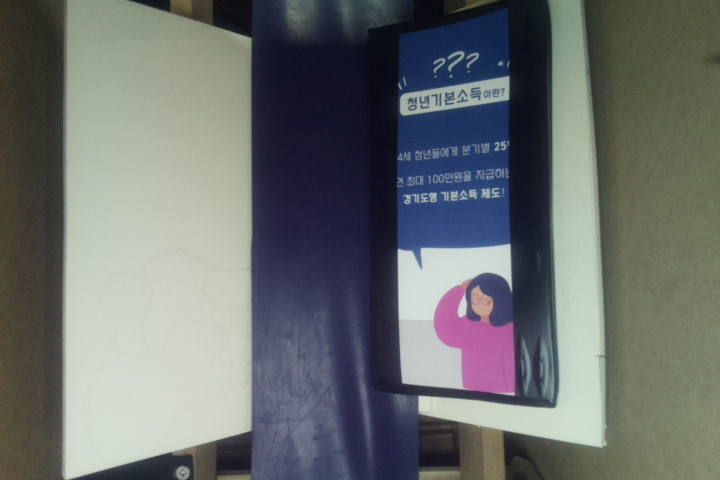book: (373, 1, 557, 409)
